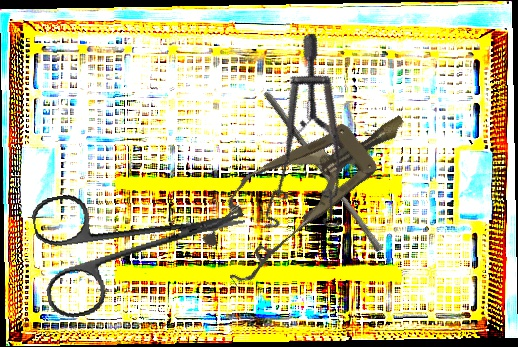Iris Scissors: (29, 162, 257, 322)
Pusher: (256, 89, 390, 254)
Speculum: (187, 82, 429, 292), (198, 31, 394, 255)
